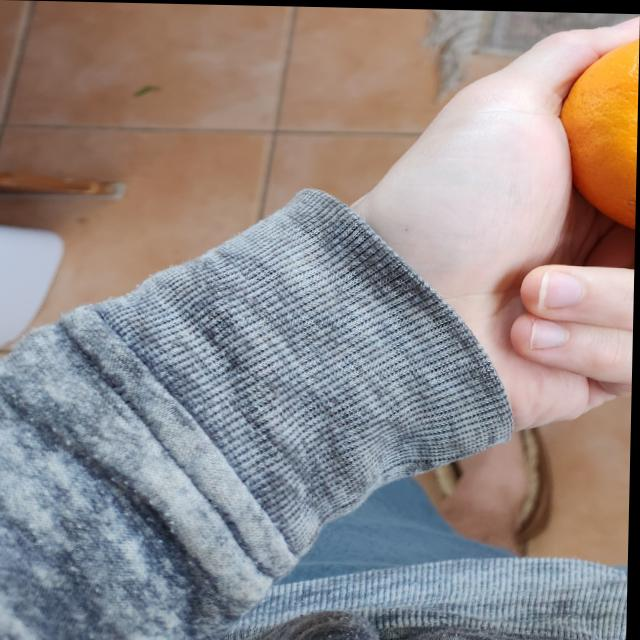orange: (564, 22, 639, 227)
